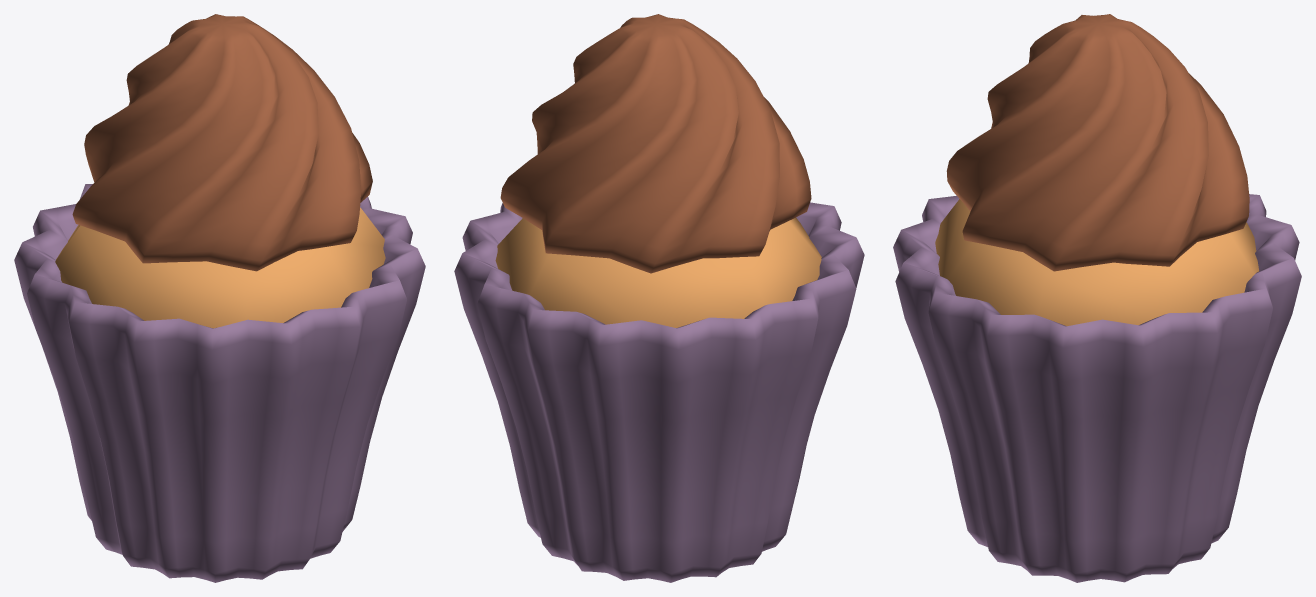
Rendered from SM_muffin_06.glb.
3 views of the same model, side by side, from view 1: azimuth 30°, elevation 25°; view 2: azimuth 150°, elevation 25°; view 3: azimuth 270°, elevation 25° (orthographic).
Visible parts, largest first — view 1: SM_muffin_06; view 2: SM_muffin_06; view 3: SM_muffin_06.
Boxes of the visible parts, <box> form: SM_muffin_06: <box>14,14,425,582</box>; SM_muffin_06: <box>454,14,864,582</box>; SM_muffin_06: <box>893,14,1301,582</box>.
Size of the model in its own units: 0.1342 by 0.1854 by 0.1342.
1 material, 1 textured.
